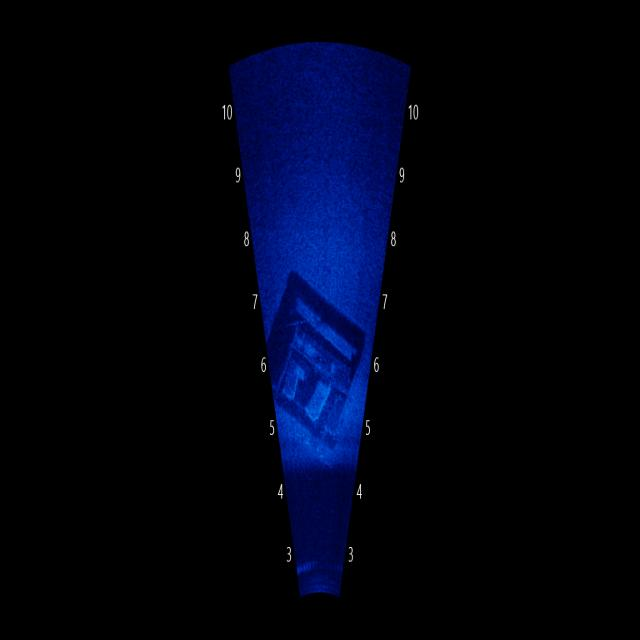square: (264, 279, 368, 468)
